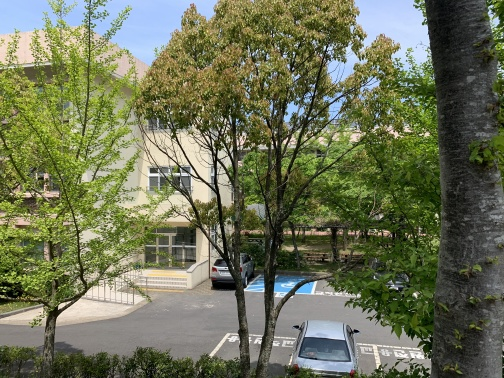College Of Education: (1, 29, 249, 310)
